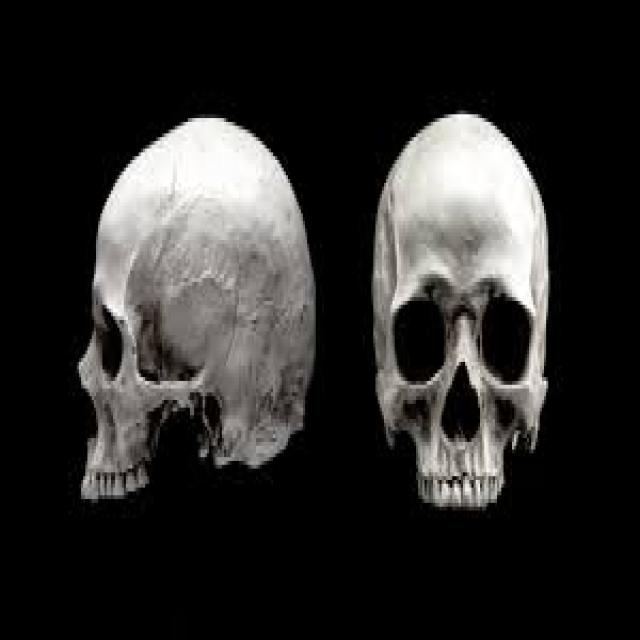skull: (366, 102, 558, 522)
